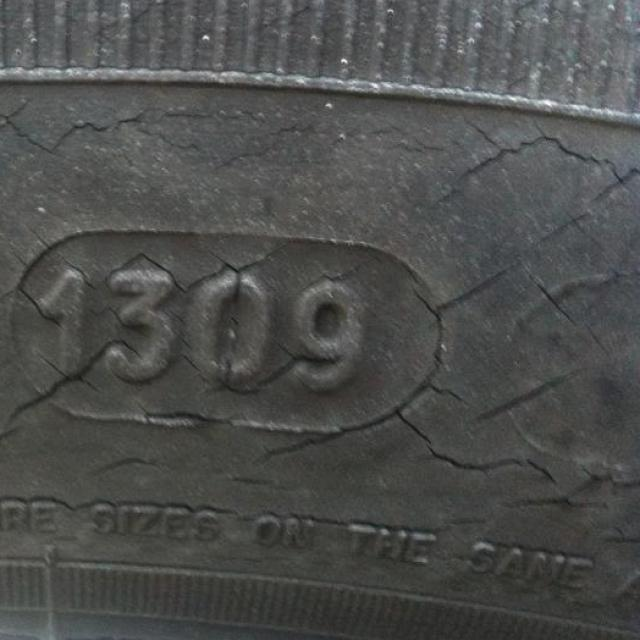Cracks: (0, 84, 640, 555)
